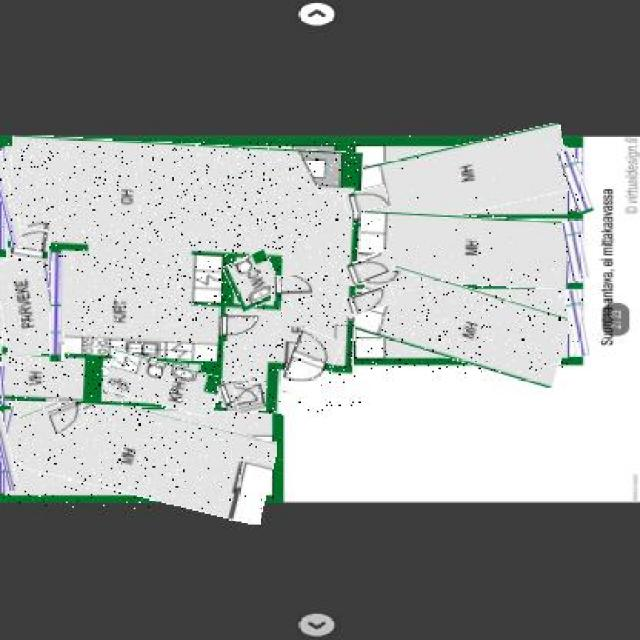door: (285, 331, 337, 402), (343, 252, 395, 283), (12, 228, 50, 262), (344, 289, 394, 314), (222, 314, 268, 341), (218, 379, 260, 406), (271, 275, 314, 300), (345, 186, 386, 212), (51, 403, 88, 431), (236, 381, 266, 414)
window: (0, 146, 17, 248), (563, 148, 588, 214), (50, 260, 64, 362), (564, 222, 588, 280), (566, 289, 586, 357), (0, 411, 12, 491), (0, 365, 5, 400)
zone: (3, 142, 360, 412), (2, 394, 276, 509), (356, 274, 570, 374), (355, 133, 571, 224), (352, 214, 571, 288), (106, 357, 220, 411), (0, 255, 54, 357), (106, 363, 223, 406), (6, 358, 89, 412), (228, 254, 278, 309)
